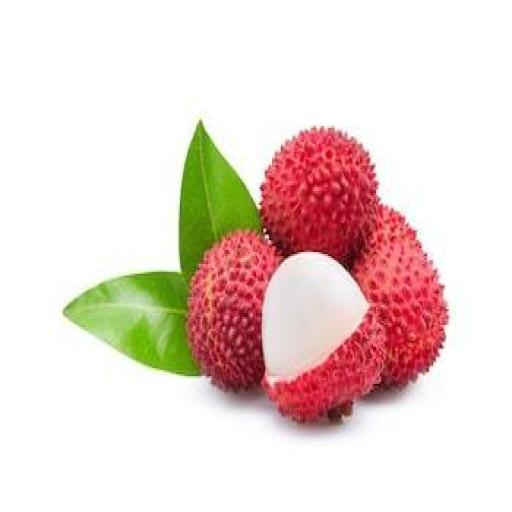lychee: (262, 253, 384, 421), (353, 207, 447, 385), (261, 128, 377, 265), (188, 231, 280, 389)
